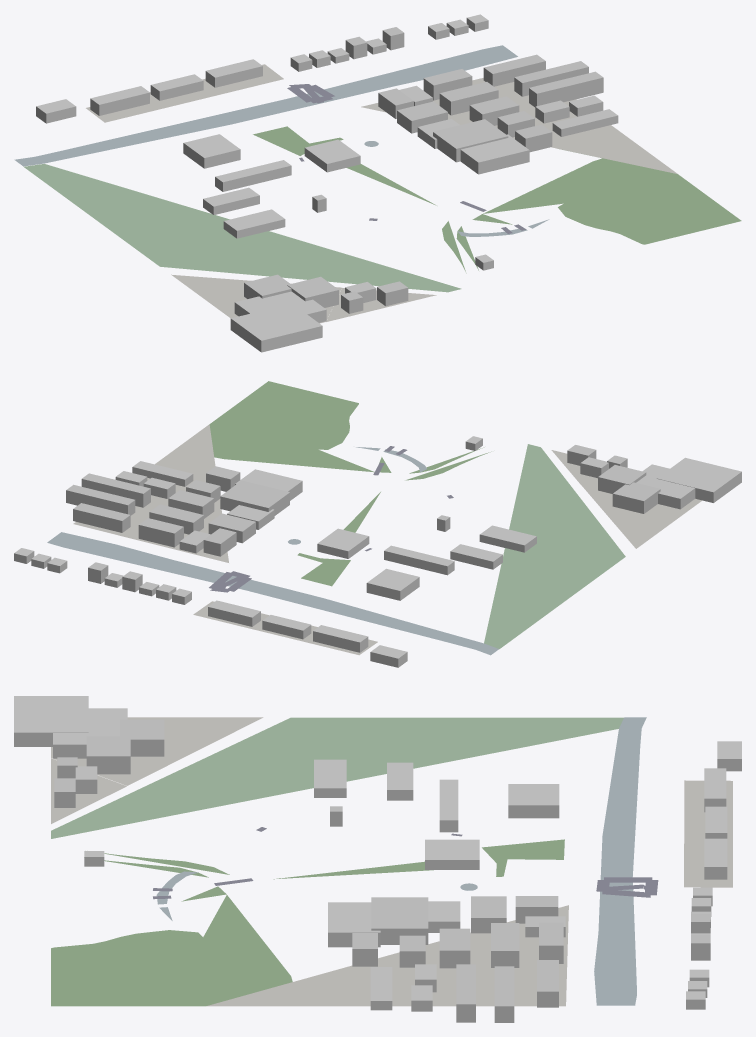
The model's file is 112_100_mid.glb.
3 views of the same model, one above another, from view 1: azimuth 30°, elevation 25°; view 2: azimuth 150°, elevation 25°; view 3: azimuth 270°, elevation 25° (orthographic). The views are drawn at different scales.
Bounding box in the file's own units: 542 × 15.46 × 534.
